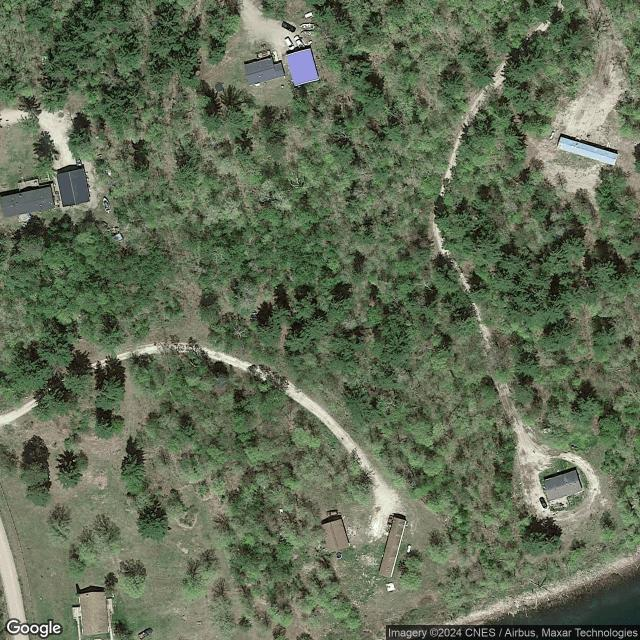Propane: (404, 542, 413, 554), (548, 130, 556, 141)
